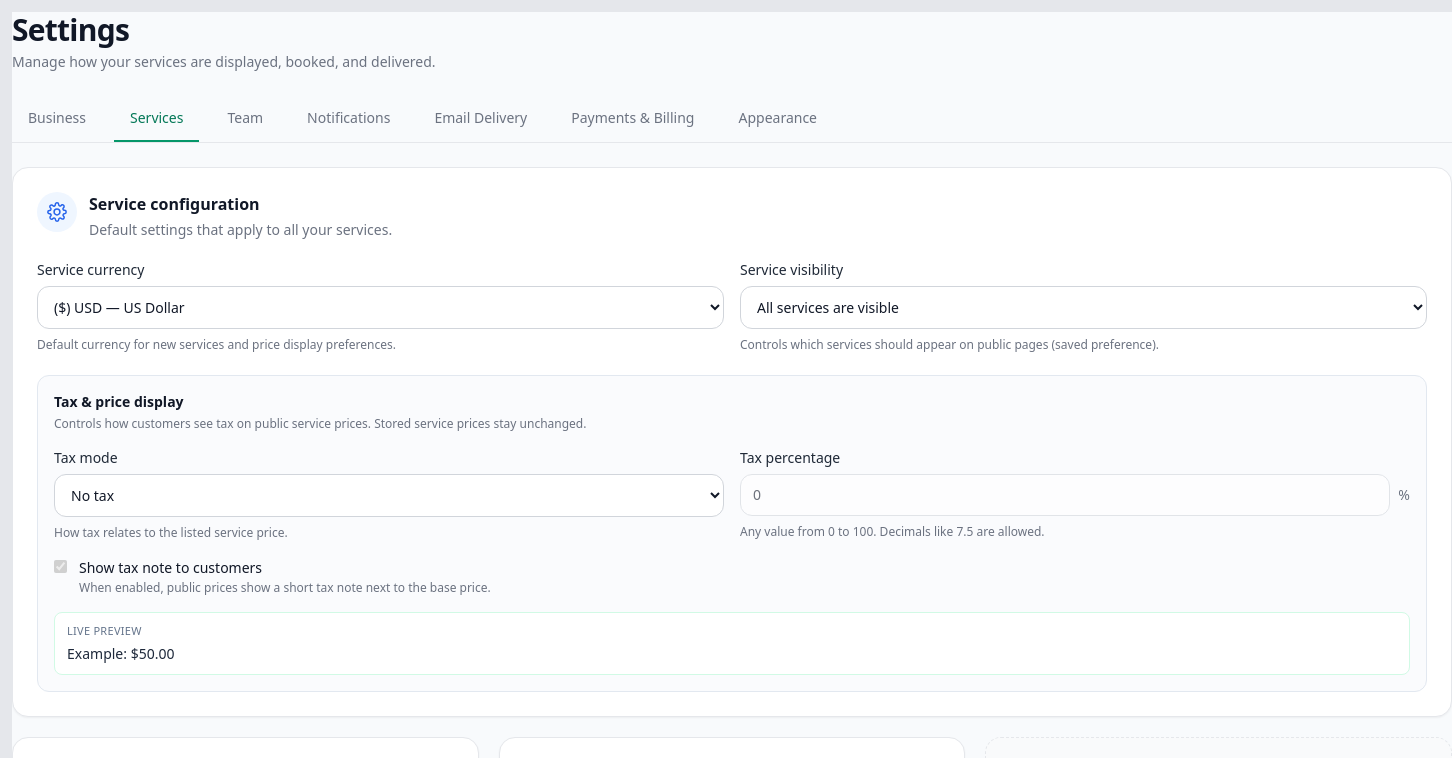
admin services settings › updates tax preview while editing
The width and height of the screenshot is (1452, 758).
Select "Tax included in price" in the dropdown with test id "admin-services-tax" at coordinates (389, 495), box x1=54 y1=474 x2=724 y2=516
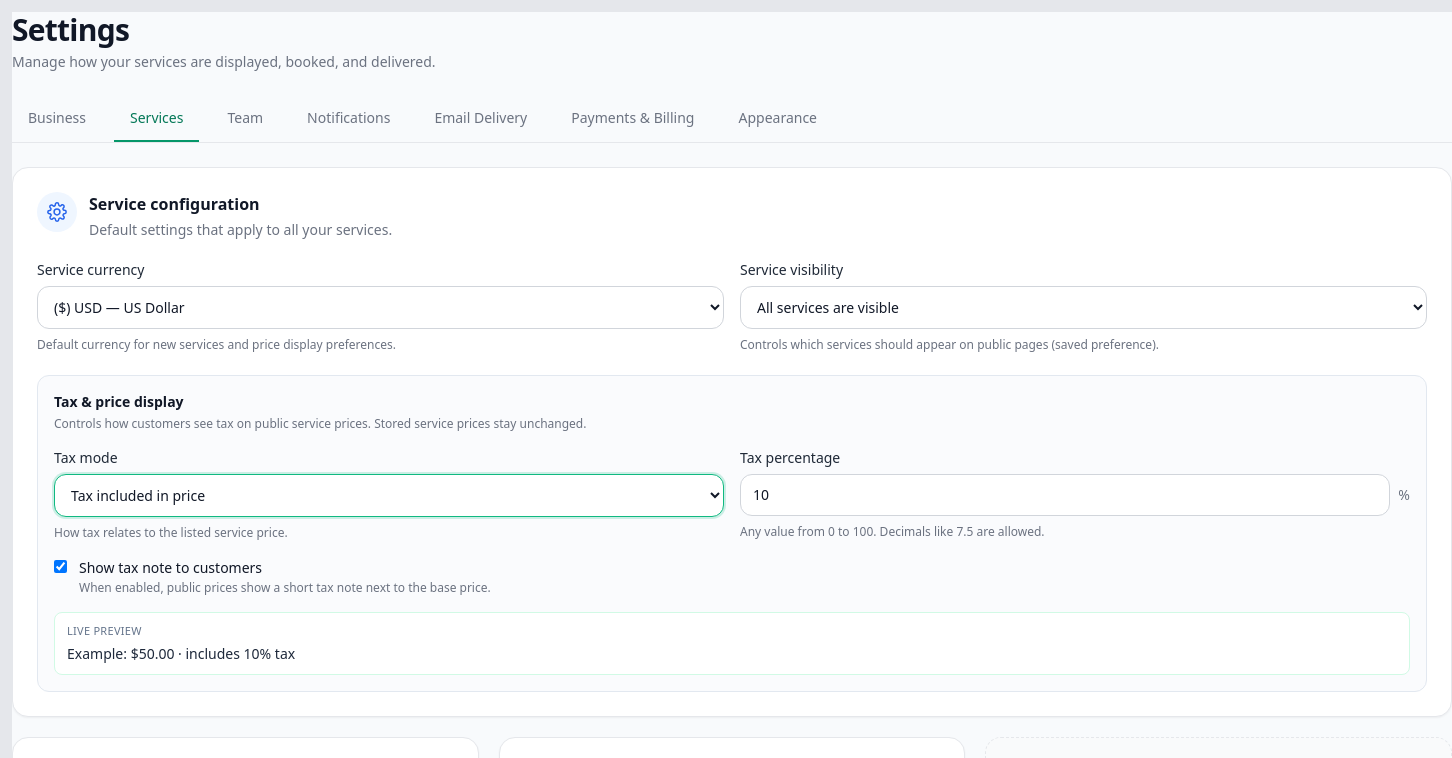
Expected: the element with test id "admin-services-tax-preview" shows "includes 10% tax", x1=67 y1=644 x2=295 y2=662
Replace the text in the number field with test id "admin-services-tax-percent" with "7.5" at coordinates (1065, 494), box x1=740 y1=474 x2=1390 y2=516
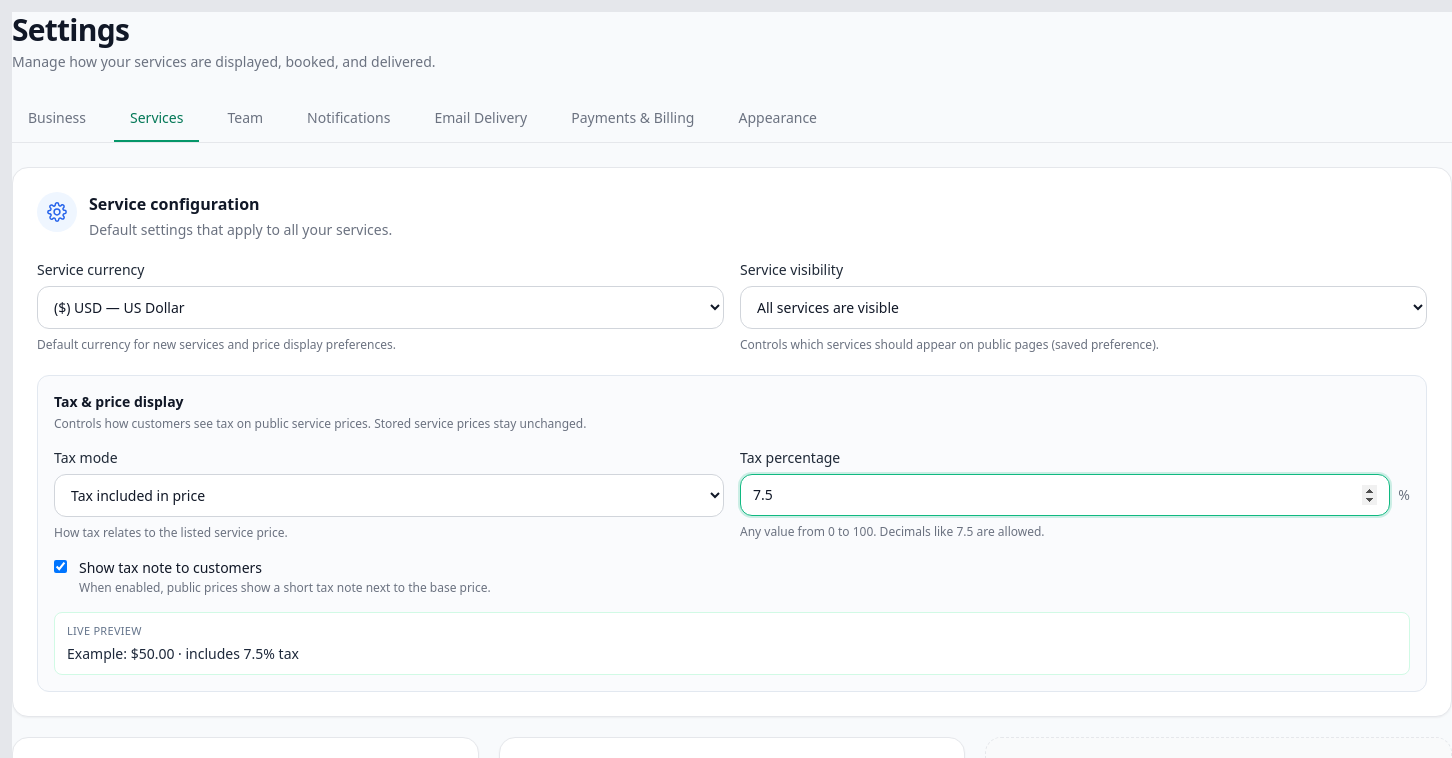
Expected: the element with test id "admin-services-tax-preview" shows "includes 7.5% tax", x1=67 y1=644 x2=299 y2=662
Select "Add tax on top of price" in the dropdown with test id "admin-services-tax" at coordinates (389, 495), box x1=54 y1=474 x2=724 y2=516
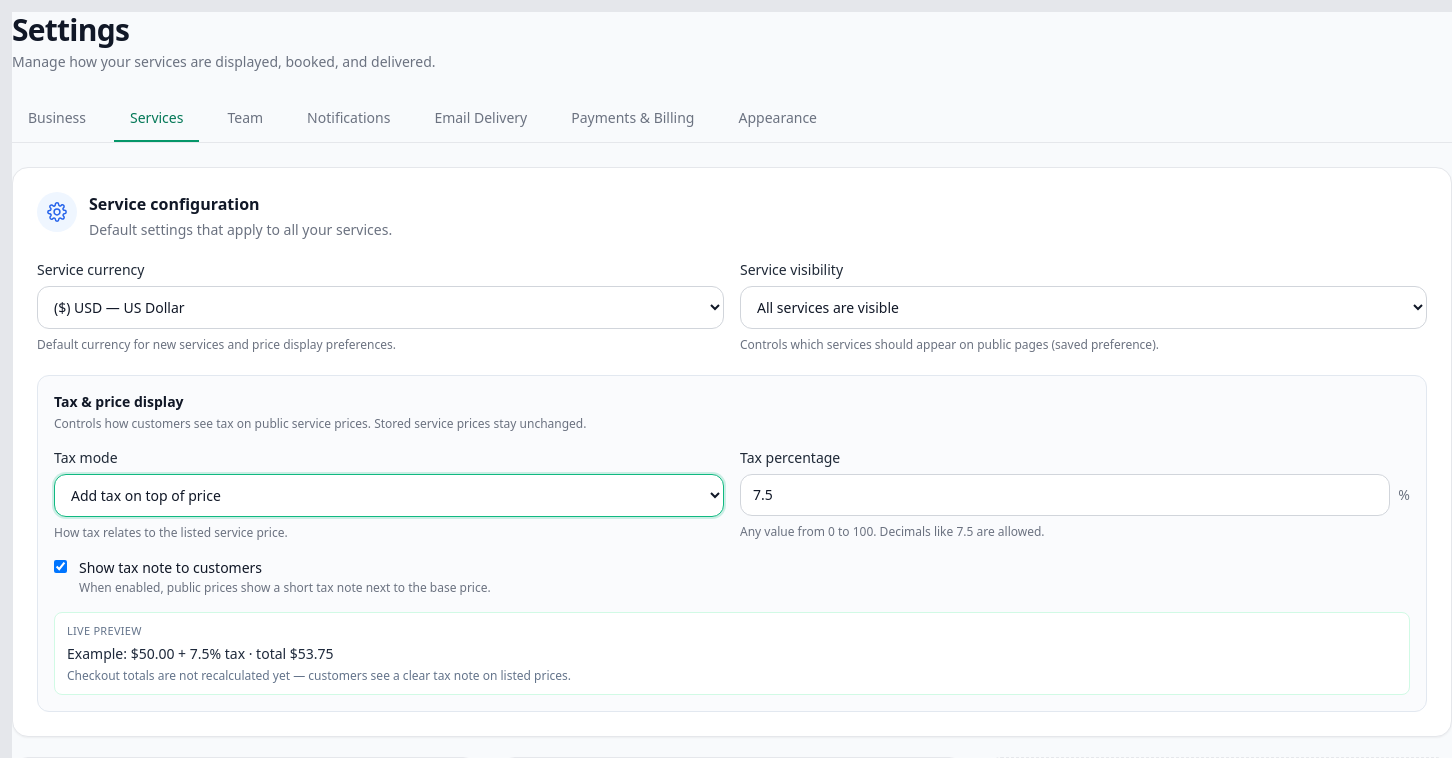
Expected: the element with test id "admin-services-tax-preview" shows "+ 7.5% tax", x1=67 y1=644 x2=334 y2=662
Expected: the element with test id "admin-services-tax-preview" shows "total", x1=67 y1=644 x2=334 y2=662
